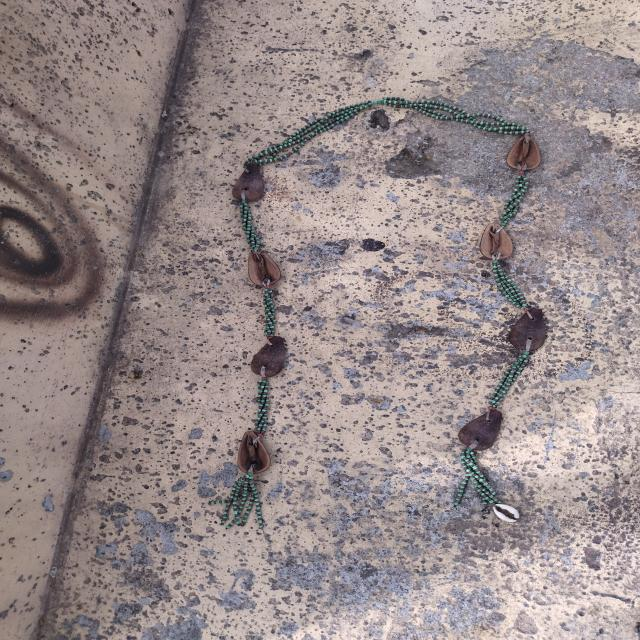facedown: (451, 401, 510, 461), (501, 302, 559, 356), (246, 332, 296, 386), (230, 157, 272, 208)
faceup: (230, 426, 282, 481), (240, 243, 288, 294), (473, 218, 520, 266), (504, 129, 548, 179)
